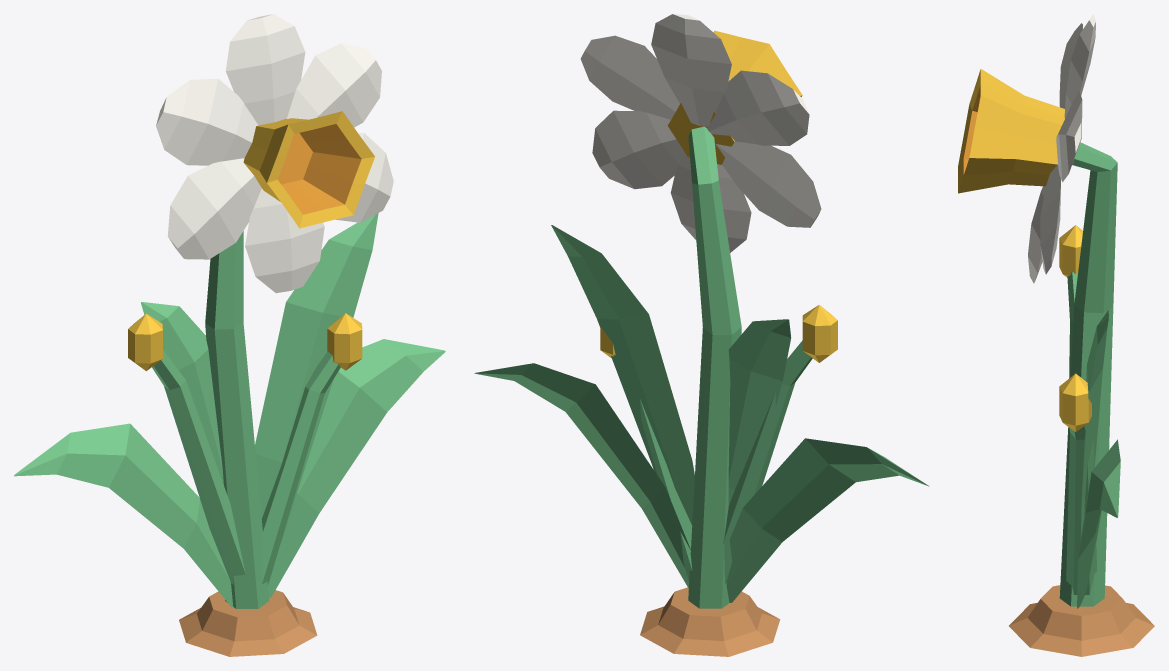
The model's file is 09-daffodil.glb.
The picture shows the model from 3 angles, left to right: view 1: azimuth 30°, elevation 25°; view 2: azimuth 150°, elevation 25°; view 3: azimuth 270°, elevation 25°; orthographic projection. The views are drawn at different scales.
Parts seen in each view (by area): view 1: 09-daffodil_Body; view 2: 09-daffodil_Body; view 3: 09-daffodil_Body.
Part boxes in pixels (x1,y1,x2,y2): 09-daffodil_Body: (14, 14, 445, 656); 09-daffodil_Body: (474, 14, 929, 656); 09-daffodil_Body: (958, 14, 1154, 656).
Bounding box in the file's own units: 0.4522 × 0.5908 × 0.1715.
Materials: 1 (1 with a texture image).
